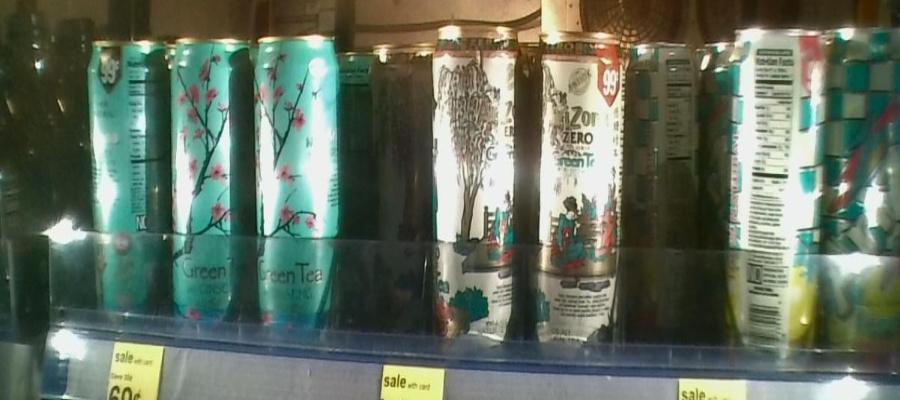bottle: (725, 19, 829, 372), (530, 10, 626, 372), (431, 16, 522, 360), (253, 23, 348, 352), (84, 24, 167, 333), (170, 28, 250, 346), (830, 19, 896, 383), (629, 32, 708, 332), (366, 38, 429, 338)
